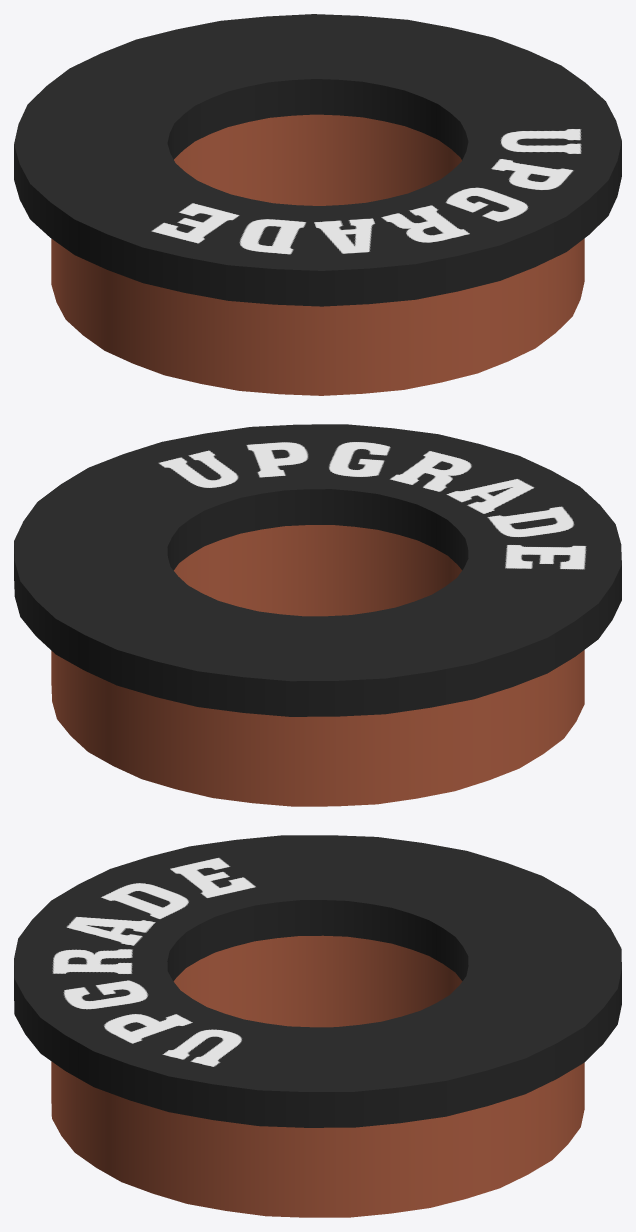
The model's file is Bantronupgrade.fbx.
3 renders of one model, top to bottom at view 1: azimuth 30°, elevation 25°; view 2: azimuth 150°, elevation 25°; view 3: azimuth 270°, elevation 25°, orthographic.
Parts seen in each view (by area): view 1: Bantronupgrade; view 2: Bantronupgrade; view 3: Bantronupgrade.
Boxes of the visible parts, x1,y1,x2,y2 form: Bantronupgrade: [14, 14, 621, 395]; Bantronupgrade: [14, 424, 621, 806]; Bantronupgrade: [14, 835, 621, 1217].
Size of the model in its own units: 514 by 132 by 514.
